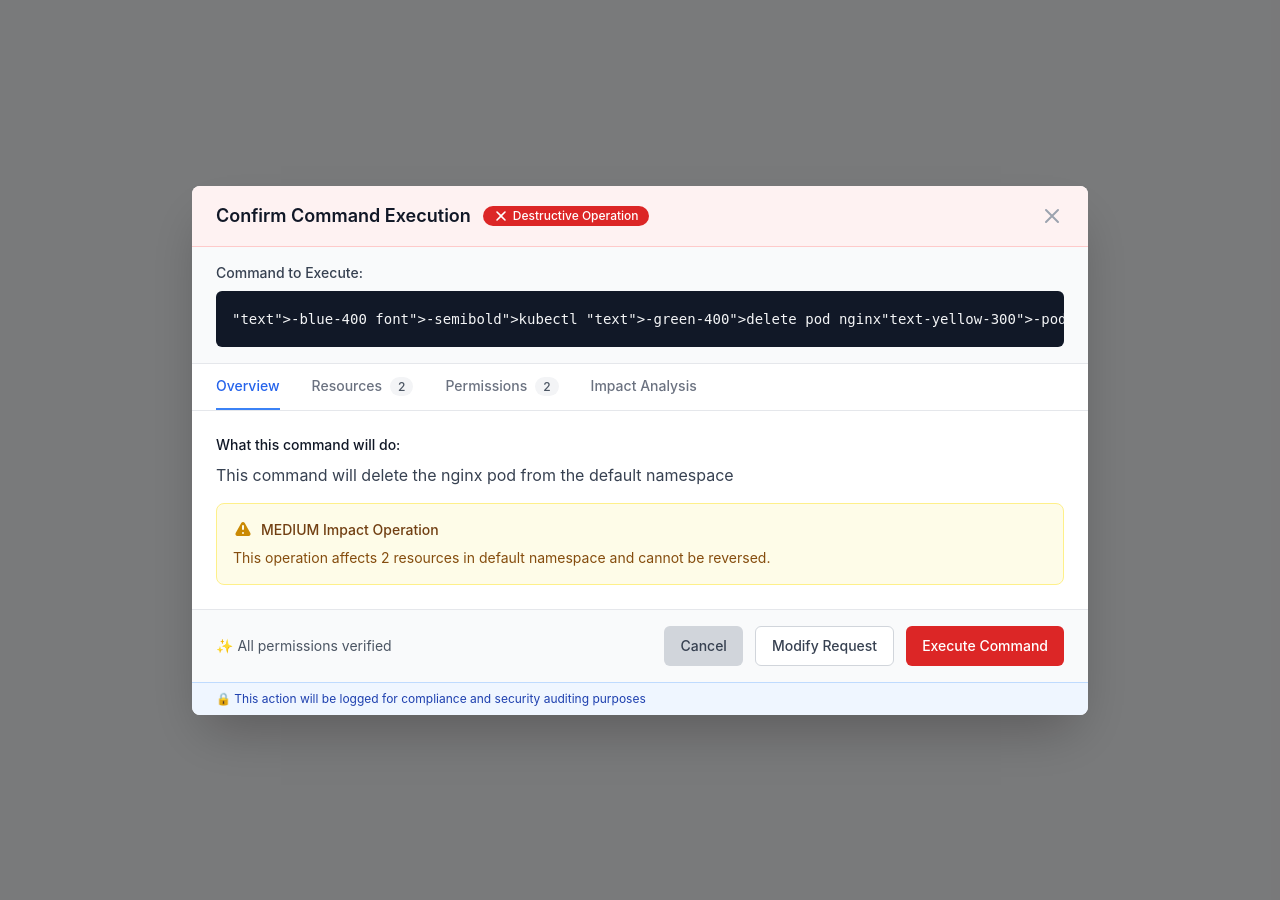
Test: EnhancedCommandConfirmationDialog › Impact Analysis › displays dependencies list
Click the button "Impact Analysis" at (644, 386), box 591,364 -> 697,410
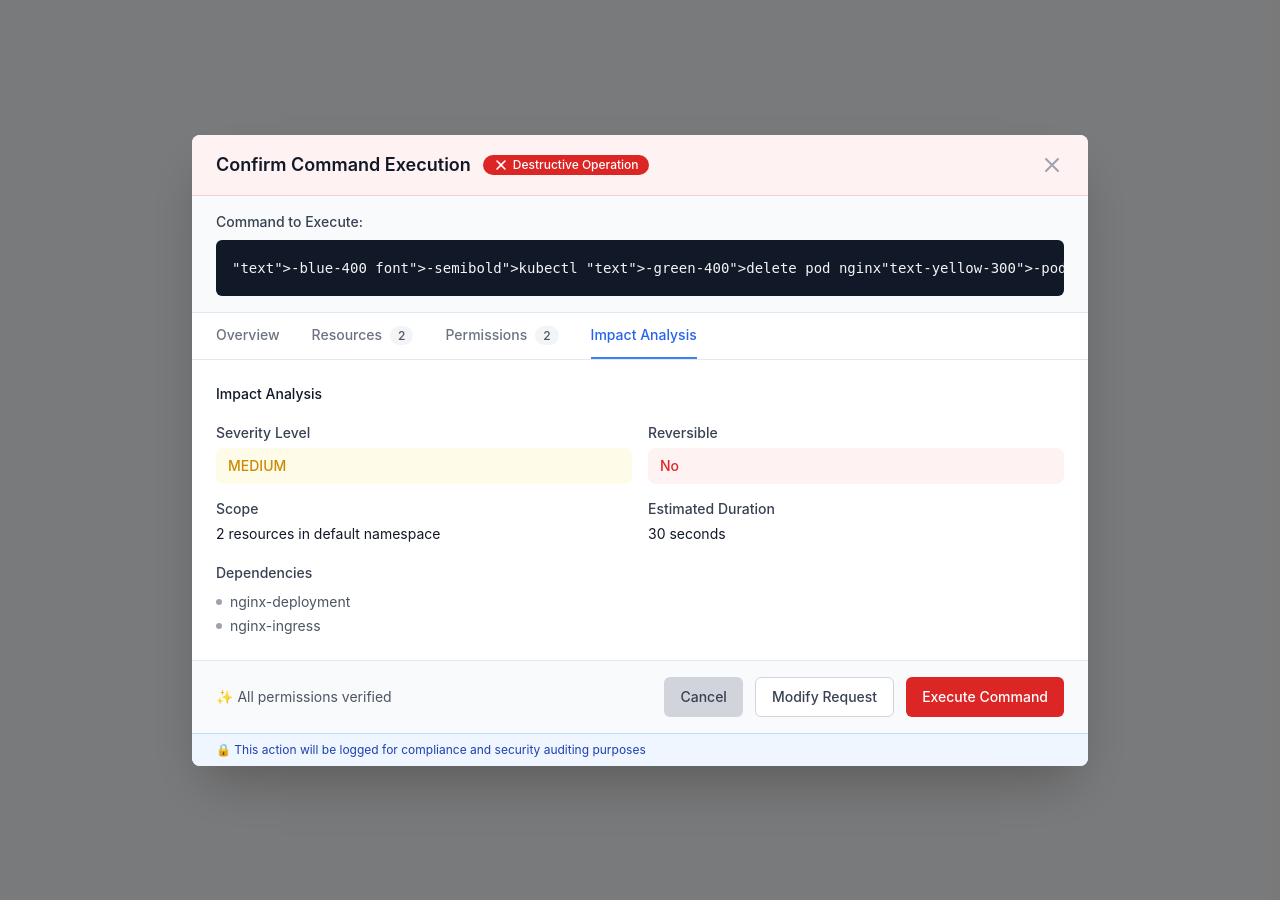
Check: the text "Dependencies" is shown, box 216,564 -> 312,580
Check: the list item "nginx-deployment" is shown, box 216,592 -> 350,610
Check: the list item "nginx-ingress" is shown, box 216,616 -> 320,634
